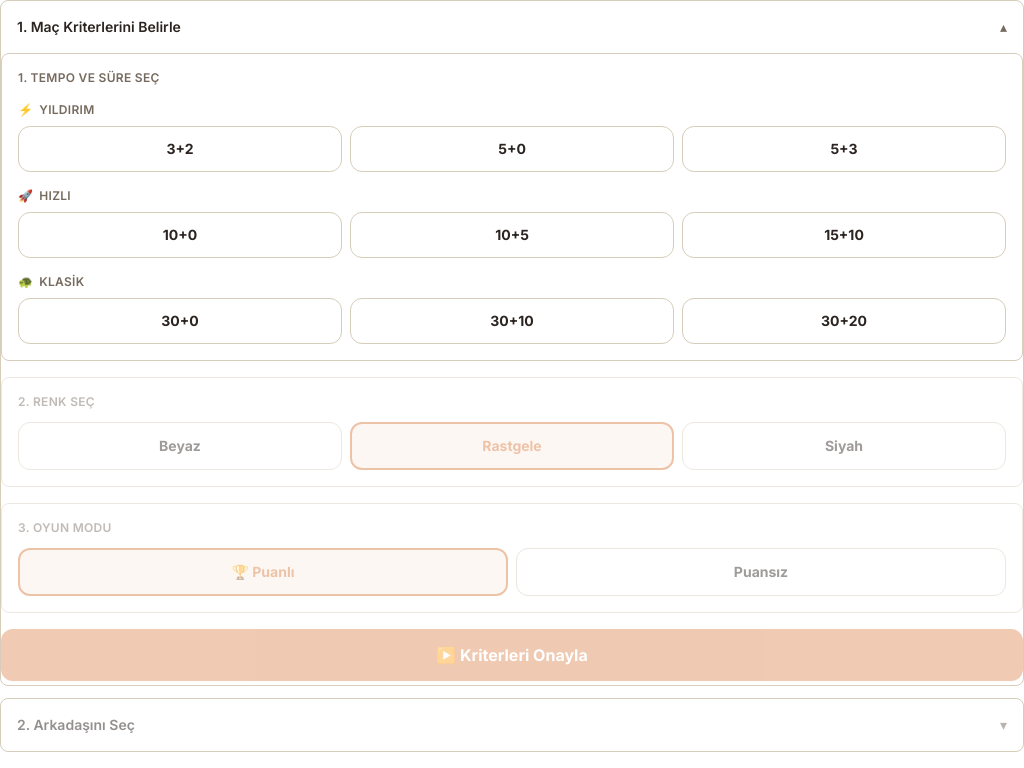
FriendChallenge › kriterler onaylanınca 2. kart açılır ve isimler listelenir
The width and height of the screenshot is (1024, 768).
Click the button "5+0" at (512, 149), box x1=350 y1=126 x2=674 y2=172
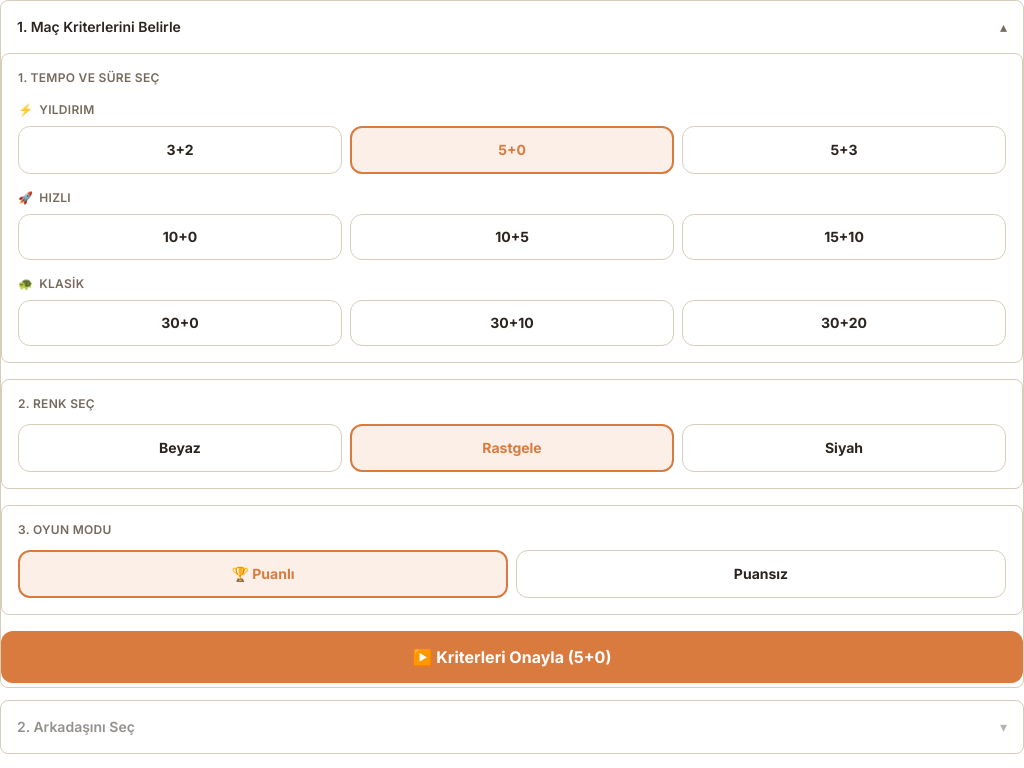
Click the button "▶️ Kriterleri Onayla (5+0)" at (512, 657), box x1=1 y1=631 x2=1023 y2=683
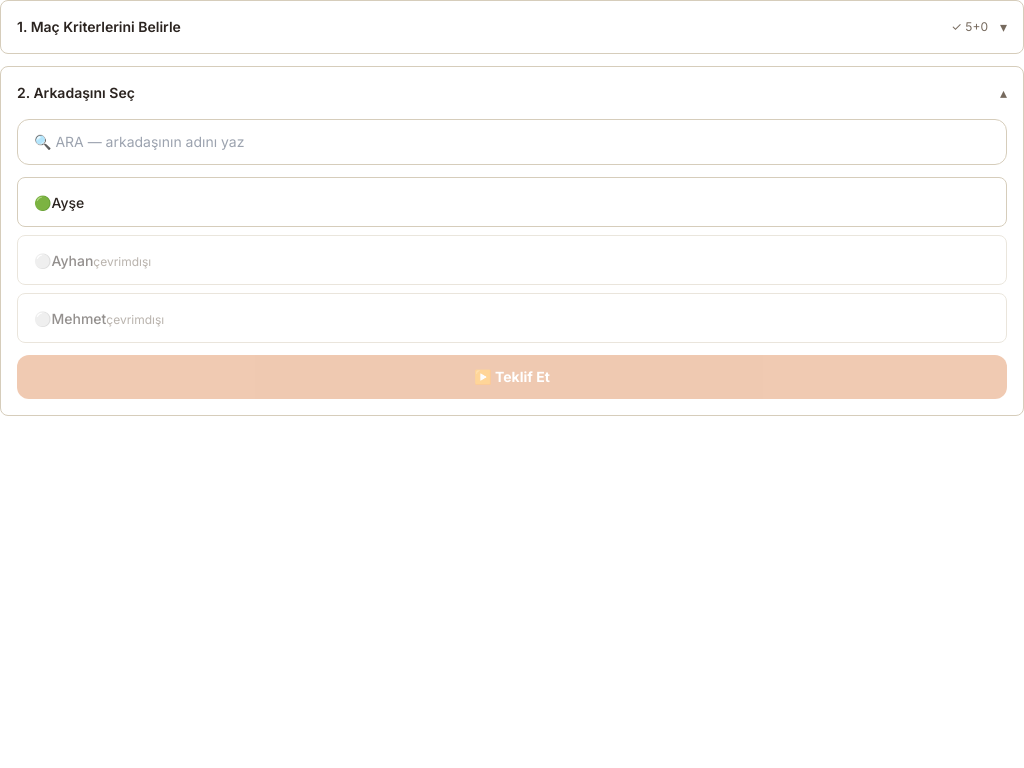
Now the text "Ayşe" is shown, box x1=52 y1=194 x2=84 y2=211
Now the text "Ayhan" is shown, box x1=52 y1=252 x2=93 y2=269
Now the text "Mehmet" is shown, box x1=52 y1=310 x2=106 y2=327
